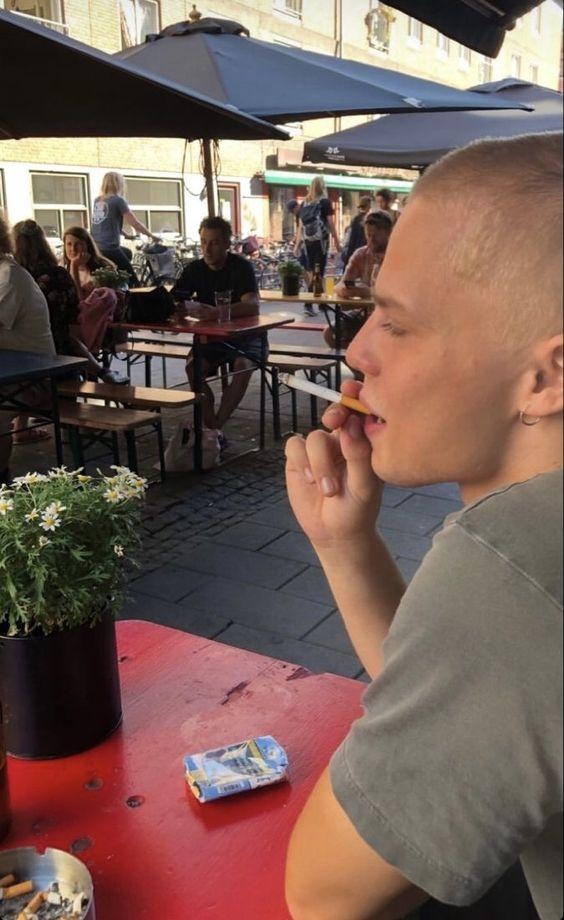cigarette: (278, 373, 373, 414)
